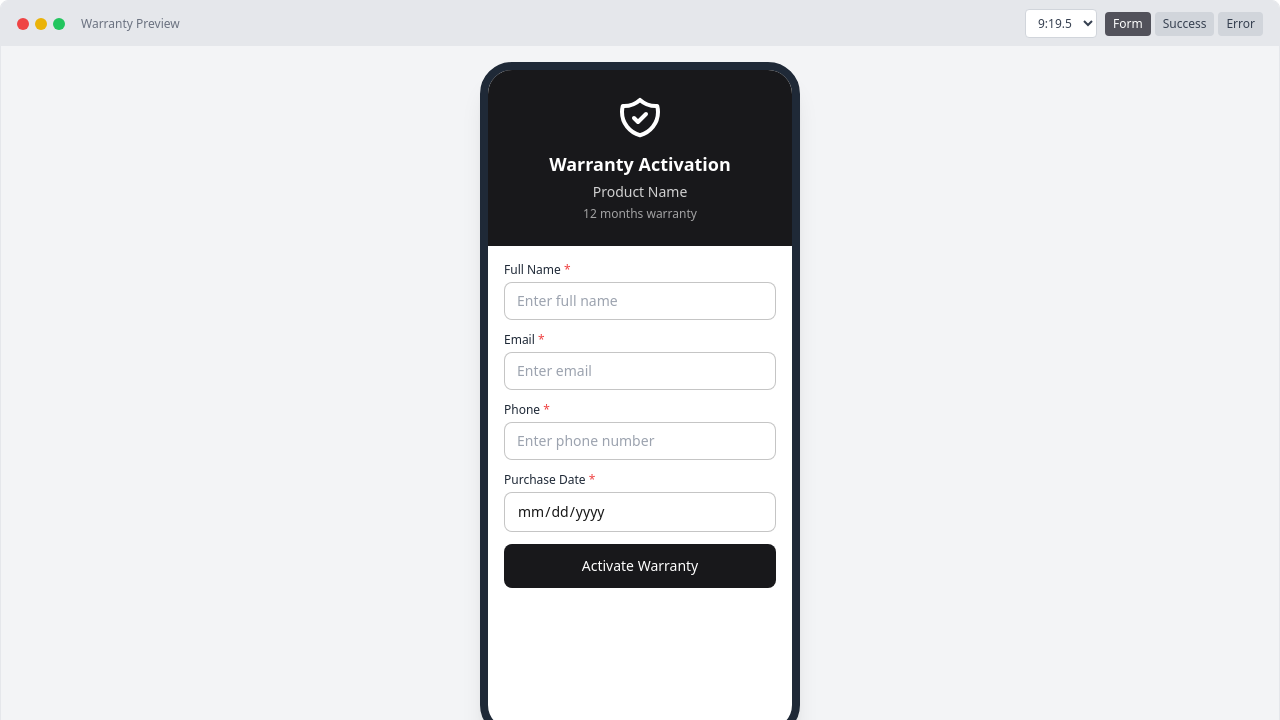
WarrantySettingsPreview › Preview modes › should switch to success view when Success button is clicked
The image size is (1280, 720).
Click the button "Success" at (1184,24), box [1155,12,1214,36]
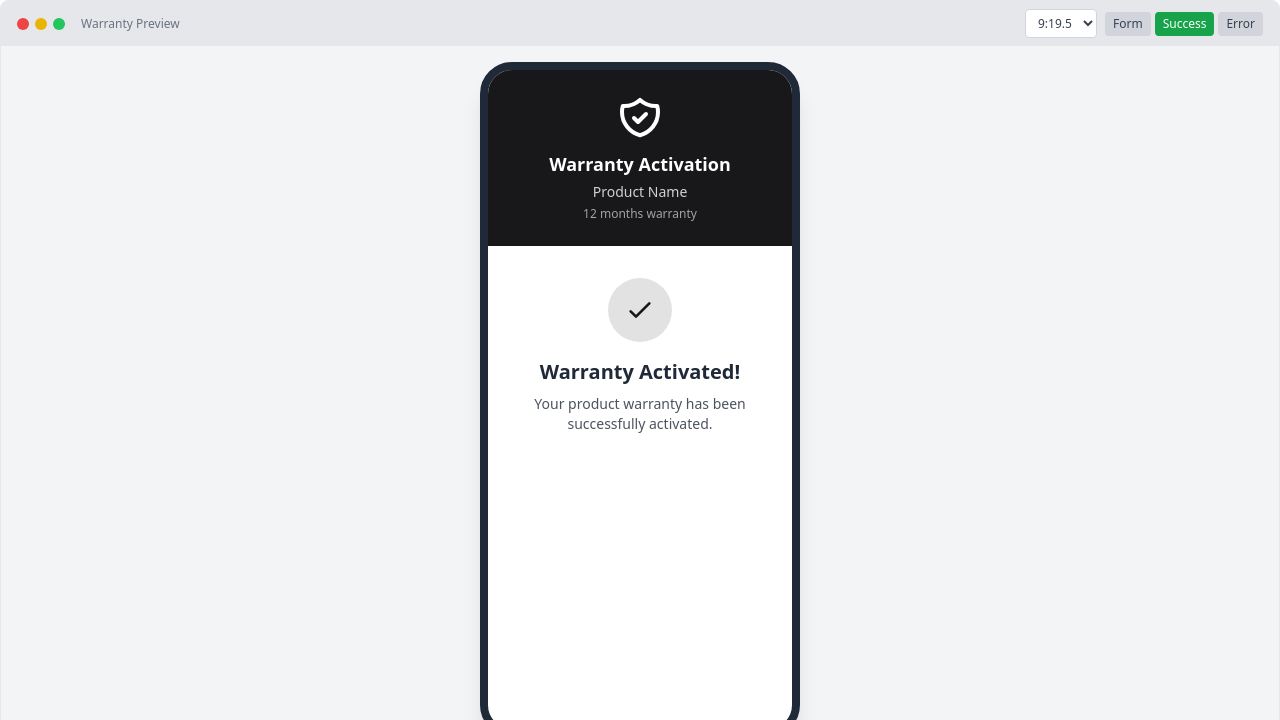
expect the text "Warranty Activated!" is shown: met, box [540,358,740,385]
expect the text "Your product warranty has been successfully activated." is shown: met, box [534,394,746,433]
expect the text "Full Name" is gone: met
